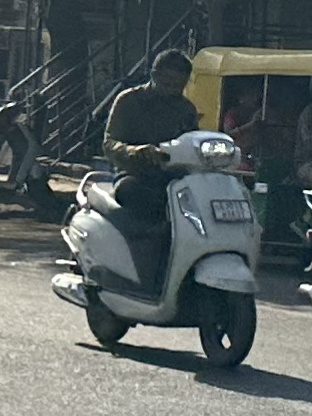BikeWithRider: (45, 49, 266, 373)
NoHelmet: (144, 48, 197, 105)
